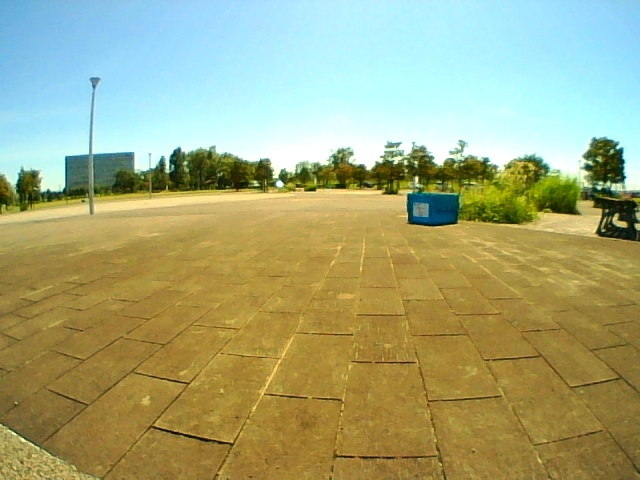blue_box: (408, 194, 456, 224)
tag: (412, 204, 429, 218)
